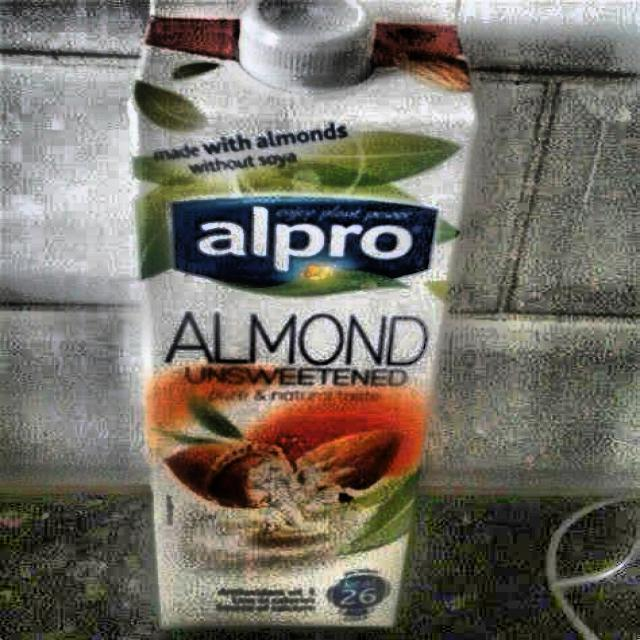cardboard: (128, 0, 480, 628)
